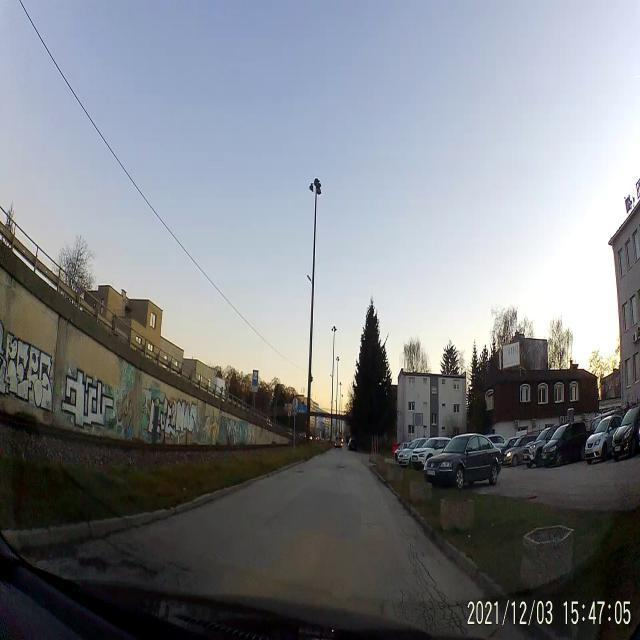Pothole: (69, 553, 155, 582), (332, 460, 351, 472), (292, 466, 312, 476)
